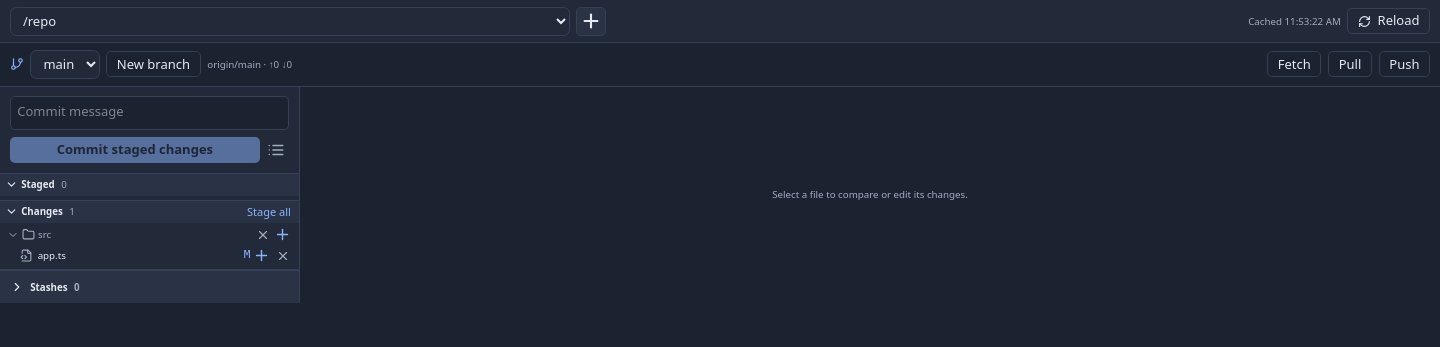
Test case: opens a newly selected cached file after an in-flight status refresh fails
Click the button "Reload" at (1389,21), box 1347,8 -> 1430,34
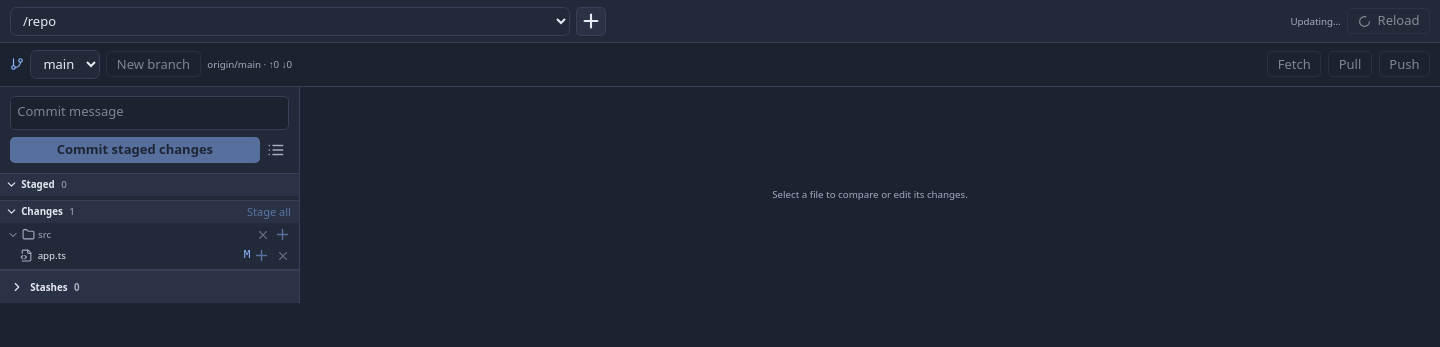
Click the button "app.ts M" at (132,256), box 13,244 -> 250,267
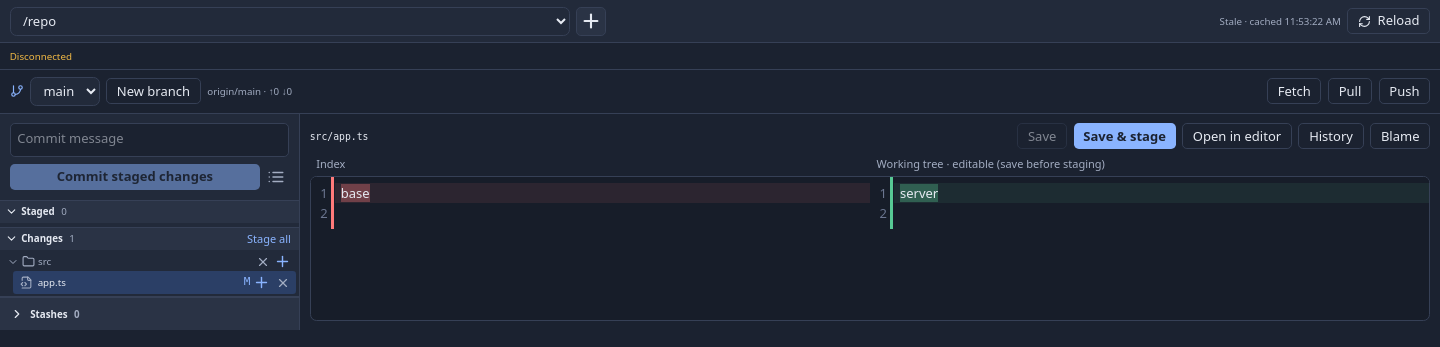
Expected: the text box labelled "server" is shown, 900,184 -> 938,202
